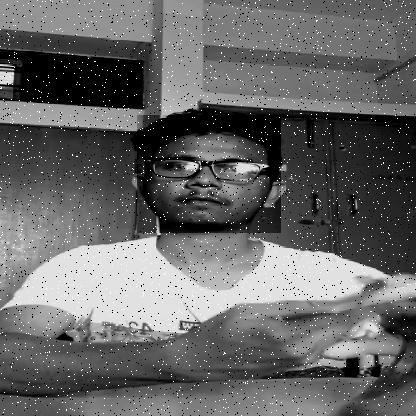Normal: (138, 115, 282, 233)
